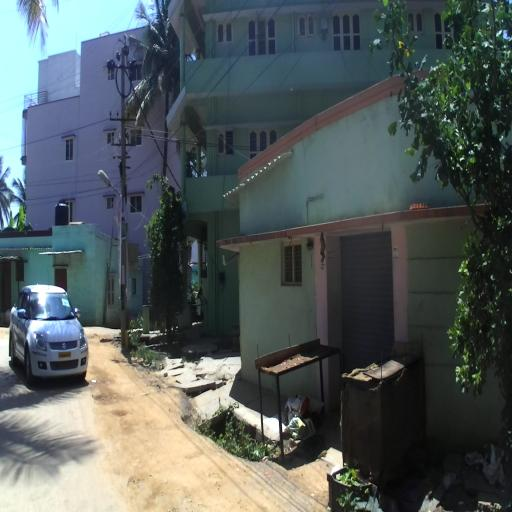street_light_0: (98, 169, 121, 196)
